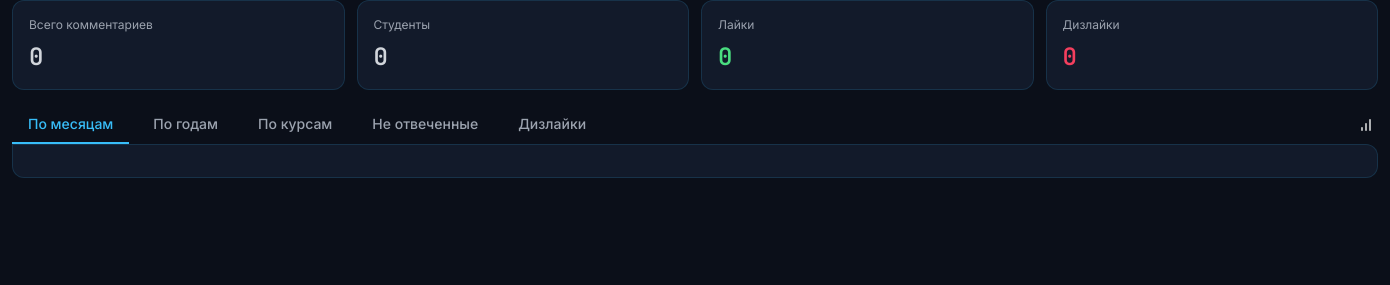
Test: Comments › shows error banner when list fetch fails
Click the button "Не отвеченные" at (425, 125), box [356,106,494,144]
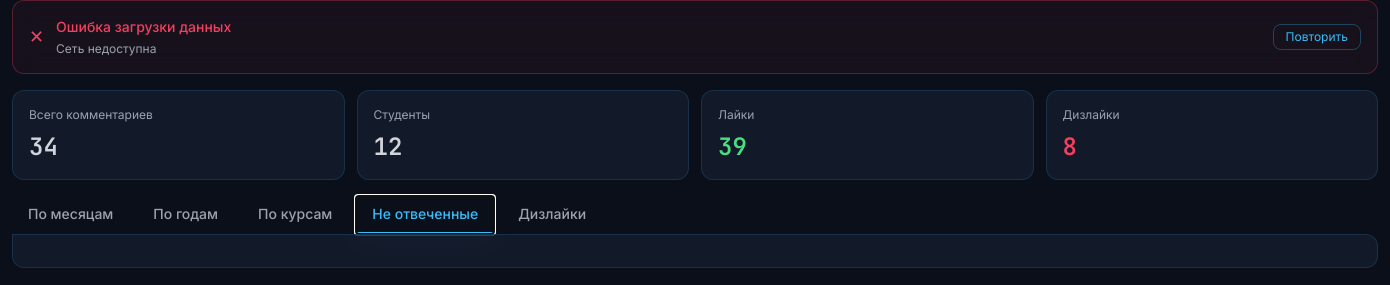
Result: the text "Сеть недоступна" is shown at [56,41,156,56]
